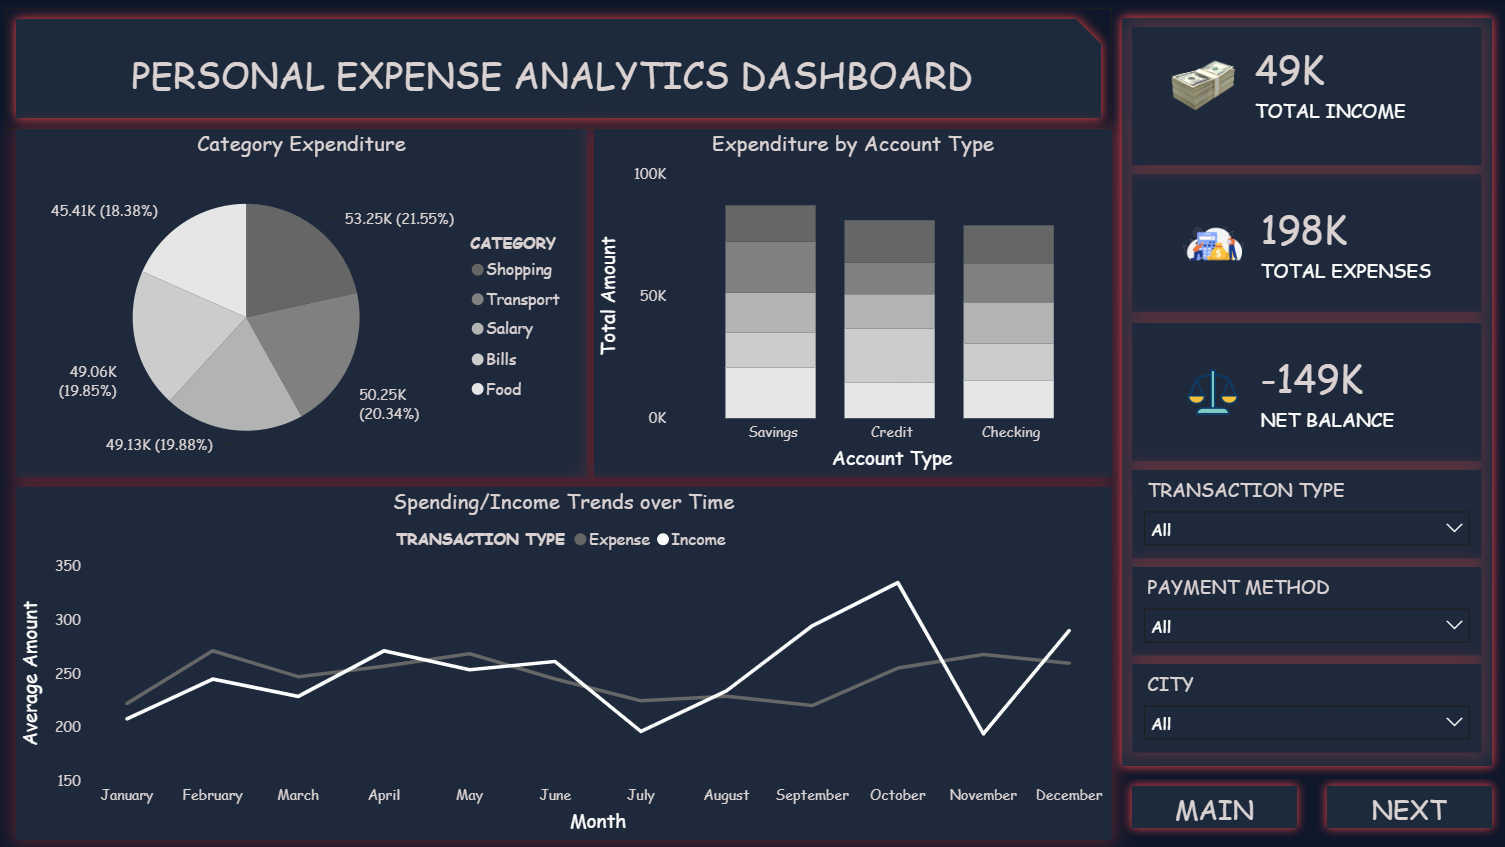

What the dashboard file says about the page in this screenshot:
{"tool":"powerbi","page":{"name":"Dashboard","canvas":[1280,720],"ordinal":0},"visuals":[{"type":"shape","box":[944.5,6.9,330.4,650.4],"z":0},{"type":"shape","box":[6.9,6.9,937.6,102.6],"z":1000},{"type":"cardVisual","fields":{"Data":["Measure.Total Expenses"]},"box":[961.7,147.5,295.8,117.3],"z":2000},{"type":"cardVisual","fields":{"Data":["Measure.Net Balance"]},"box":[961.7,273.4,295.8,117.3],"z":3000},{"type":"cardVisual","fields":{"Data":["Measure.Total Income"]},"box":[961.7,23.3,295.8,117.3],"z":4000},{"type":"slicer","fields":{"Values":["personal_finance_tracking.transaction_type"]},"box":[961.7,398.5,295.8,75],"z":5000},{"type":"slicer","fields":{"Values":["personal_finance_tracking.payment_method"]},"box":[961.7,480.4,295.8,75],"z":6000},{"type":"slicer","fields":{"Values":["personal_finance_tracking.city"]},"box":[961.7,562.4,295.8,75],"z":7000},{"type":"pieChart","title":"Category Expenditure","fields":{"Category":["personal_finance_tracking.category"],"Y":["Sum(personal_finance_tracking.amount)"]},"box":[16.4,109.5,483.9,295],"z":8000},{"type":"columnChart","title":"Expenditure by Account Type","fields":{"Series":["personal_finance_tracking.payment_method"],"Y":["Sum(personal_finance_tracking.amount)"],"Category":["personal_finance_tracking.account_type"]},"box":[505.4,109.5,439,295],"z":9000},{"type":"lineChart","title":"Spending/Income Trends over Time","fields":{"Y":["Avg(personal_finance_tracking.amount)"],"Series":["personal_finance_tracking.transaction_type"],"Category":["personal_finance_tracking.transaction_date.Variation.Date Hierarchy.Month"]},"box":[16.4,412.3,928.1,299.3],"z":10000},{"type":"actionButton","box":[953.1,657.2,156.3,52.1],"z":10002},{"type":"actionButton","box":[1118.2,657.2,156.3,52.1],"z":10003}]}

Visuals, with their boxes in screenshot pixels (x1, y1, x2, y2), scaled from the page's 1280x720 canvas onto the 1505x847 screenshot:
shape: pyautogui.locateOnScreen(1111, 8, 1499, 773)
shape: pyautogui.locateOnScreen(8, 8, 1111, 129)
cardVisual - Measure.Total Expenses: pyautogui.locateOnScreen(1131, 174, 1479, 312)
cardVisual - Measure.Net Balance: pyautogui.locateOnScreen(1131, 322, 1479, 460)
cardVisual - Measure.Total Income: pyautogui.locateOnScreen(1131, 27, 1479, 165)
slicer - personal_finance_tracking.transaction_type: pyautogui.locateOnScreen(1131, 469, 1479, 557)
slicer - personal_finance_tracking.payment_method: pyautogui.locateOnScreen(1131, 565, 1479, 653)
slicer - personal_finance_tracking.city: pyautogui.locateOnScreen(1131, 662, 1479, 750)
"Category Expenditure" pieChart: pyautogui.locateOnScreen(19, 129, 588, 476)
"Expenditure by Account Type" columnChart: pyautogui.locateOnScreen(594, 129, 1110, 476)
"Spending/Income Trends over Time" lineChart: pyautogui.locateOnScreen(19, 485, 1111, 837)
actionButton: pyautogui.locateOnScreen(1121, 773, 1304, 834)
actionButton: pyautogui.locateOnScreen(1315, 773, 1499, 834)
